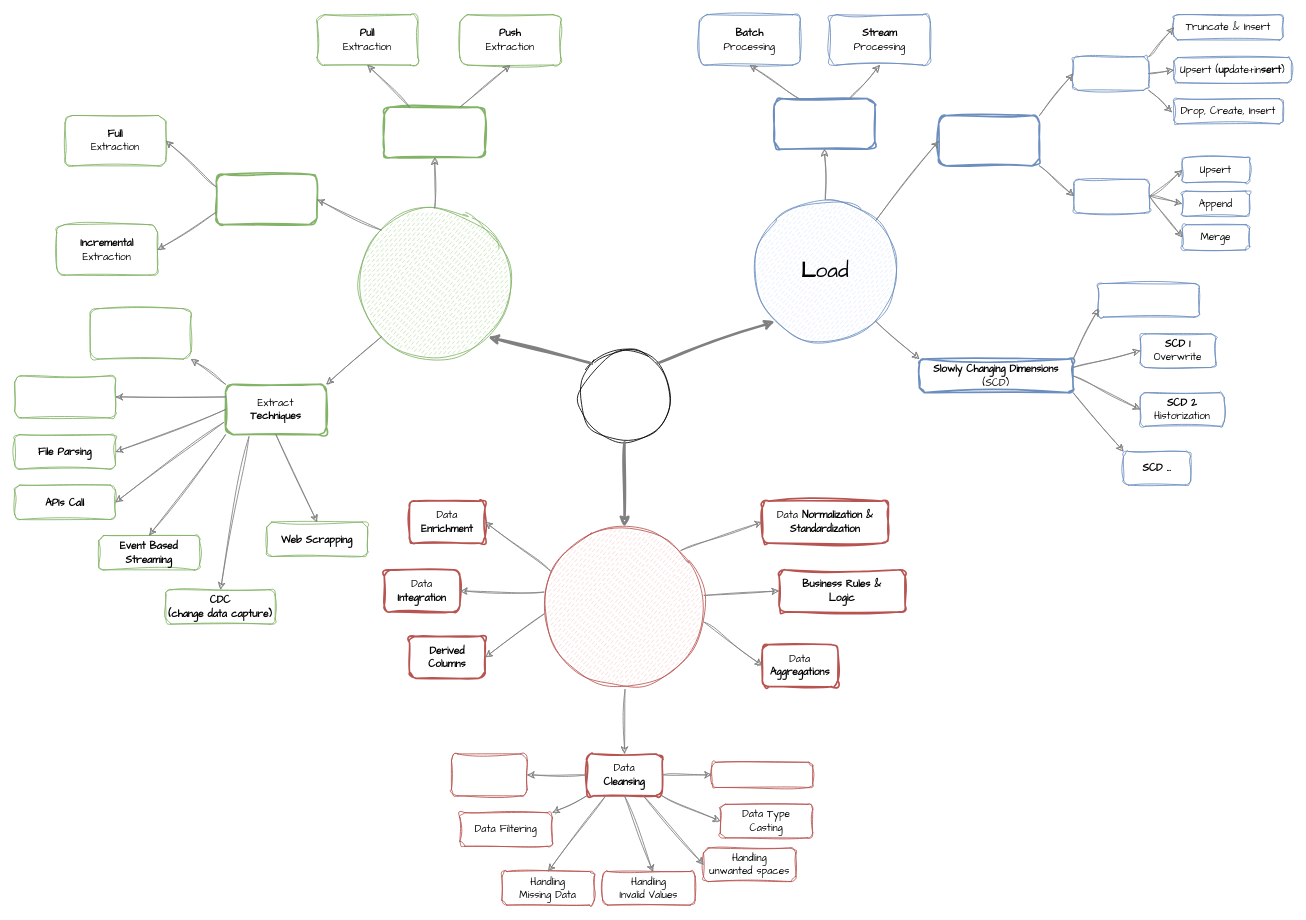
This 1306x920 diagram has some shape labels left out. Each missing label, with the centre of its shape:
Database Querying: the point at 65,396
E xtraction: the point at 434,283
ETL: the point at 624,395
Extract Types: the point at 266,199
Extraction methods: the point at 434,132
Full Load: the point at 1110,73
Incremental Load: the point at 1111,195
Load Methods: the point at 988,140
Manual Data Extraction: the point at 140,333
Outlier Detection: the point at 762,774
Processing Types: the point at 824,123
Remove Duplicates: the point at 489,774
SCD 0 No Historization: the point at 1148,300
T ransformation: the point at 624,606
